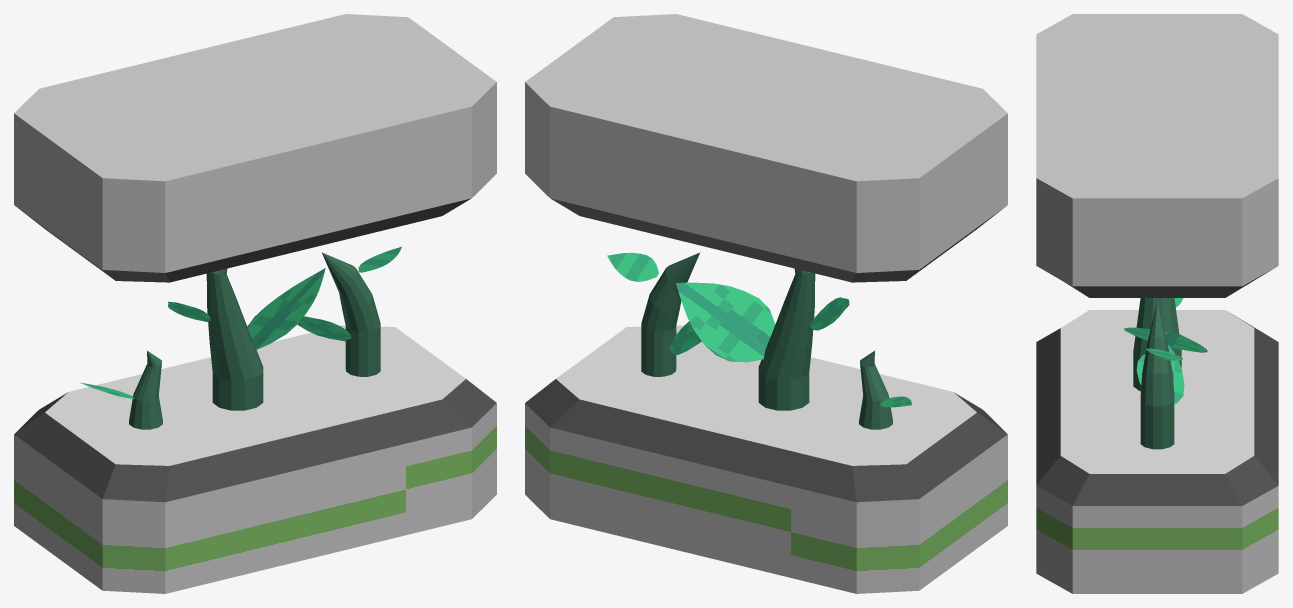
File: plantContainer.fbx
The picture shows the model from 3 angles, left to right: view 1: azimuth 30°, elevation 25°; view 2: azimuth 150°, elevation 25°; view 3: azimuth 270°, elevation 25°; orthographic projection. The views are drawn at different scales.
Parts seen in each view (by area): view 1: cuboid_1, cuboid, cylinder_1, cylinder_3, plane, cylinder_2, plane_4; view 2: cuboid_1, cuboid, cylinder_1, plane, cylinder_3, cylinder_2, plane_5, plane_1; view 3: cuboid_1, cuboid, cylinder_3, cylinder_1, plane, plane_4.
Part boxes in pixels (x1=…): cuboid_1: x1=14, y1=14, x2=496, y2=282; cuboid: x1=14, y1=325, x2=496, y2=593; cylinder_1: x1=206, y1=268, x2=263, y2=410; cylinder_3: x1=321, y1=252, x2=380, y2=376; plane: x1=247, y1=268, x2=325, y2=349; cylinder_2: x1=129, y1=350, x2=162, y2=429; plane_4: x1=297, y1=316, x2=351, y2=341; cuboid_1: x1=525, y1=14, x2=1007, y2=282; cuboid: x1=525, y1=325, x2=1007, y2=593; cylinder_1: x1=758, y1=268, x2=815, y2=410; plane: x1=676, y1=282, x2=775, y2=362; cylinder_3: x1=641, y1=252, x2=700, y2=376; cylinder_2: x1=859, y1=350, x2=892, y2=429; plane_5: x1=607, y1=252, x2=658, y2=281; plane_1: x1=809, y1=297, x2=849, y2=330; cuboid_1: x1=1036, y1=14, x2=1278, y2=297; cuboid: x1=1036, y1=310, x2=1278, y2=593; cylinder_3: x1=1140, y1=301, x2=1174, y2=449; cylinder_1: x1=1133, y1=298, x2=1181, y2=391; plane: x1=1124, y1=327, x2=1207, y2=352; plane_4: x1=1136, y1=344, x2=1184, y2=404.
Size of the model in its own units: 113 by 112 by 62.5.
Materials: 2 (2 with a texture image).
